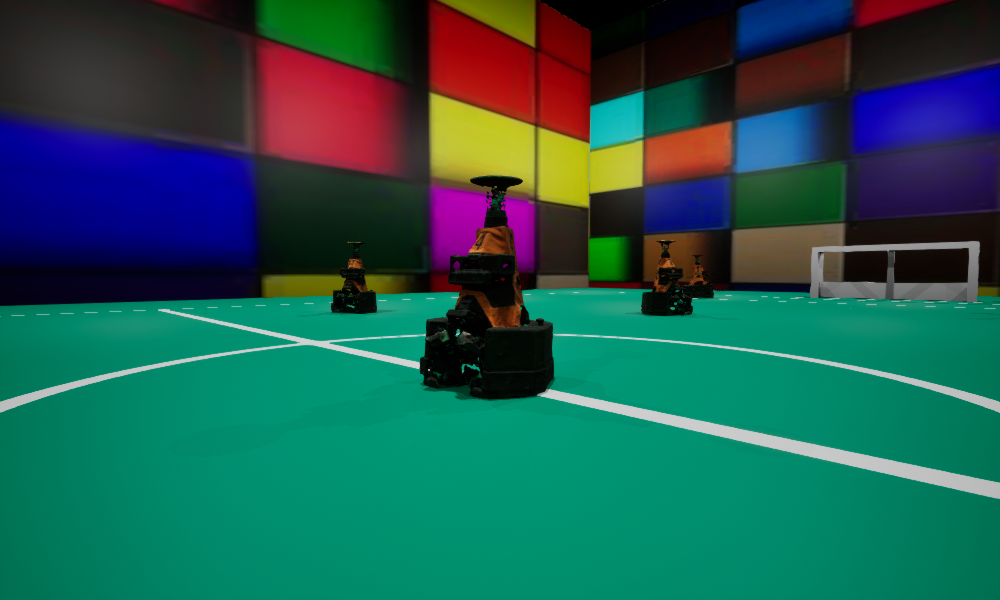o: (420, 175, 553, 396), (641, 240, 692, 315), (331, 242, 376, 312), (683, 255, 713, 297)
